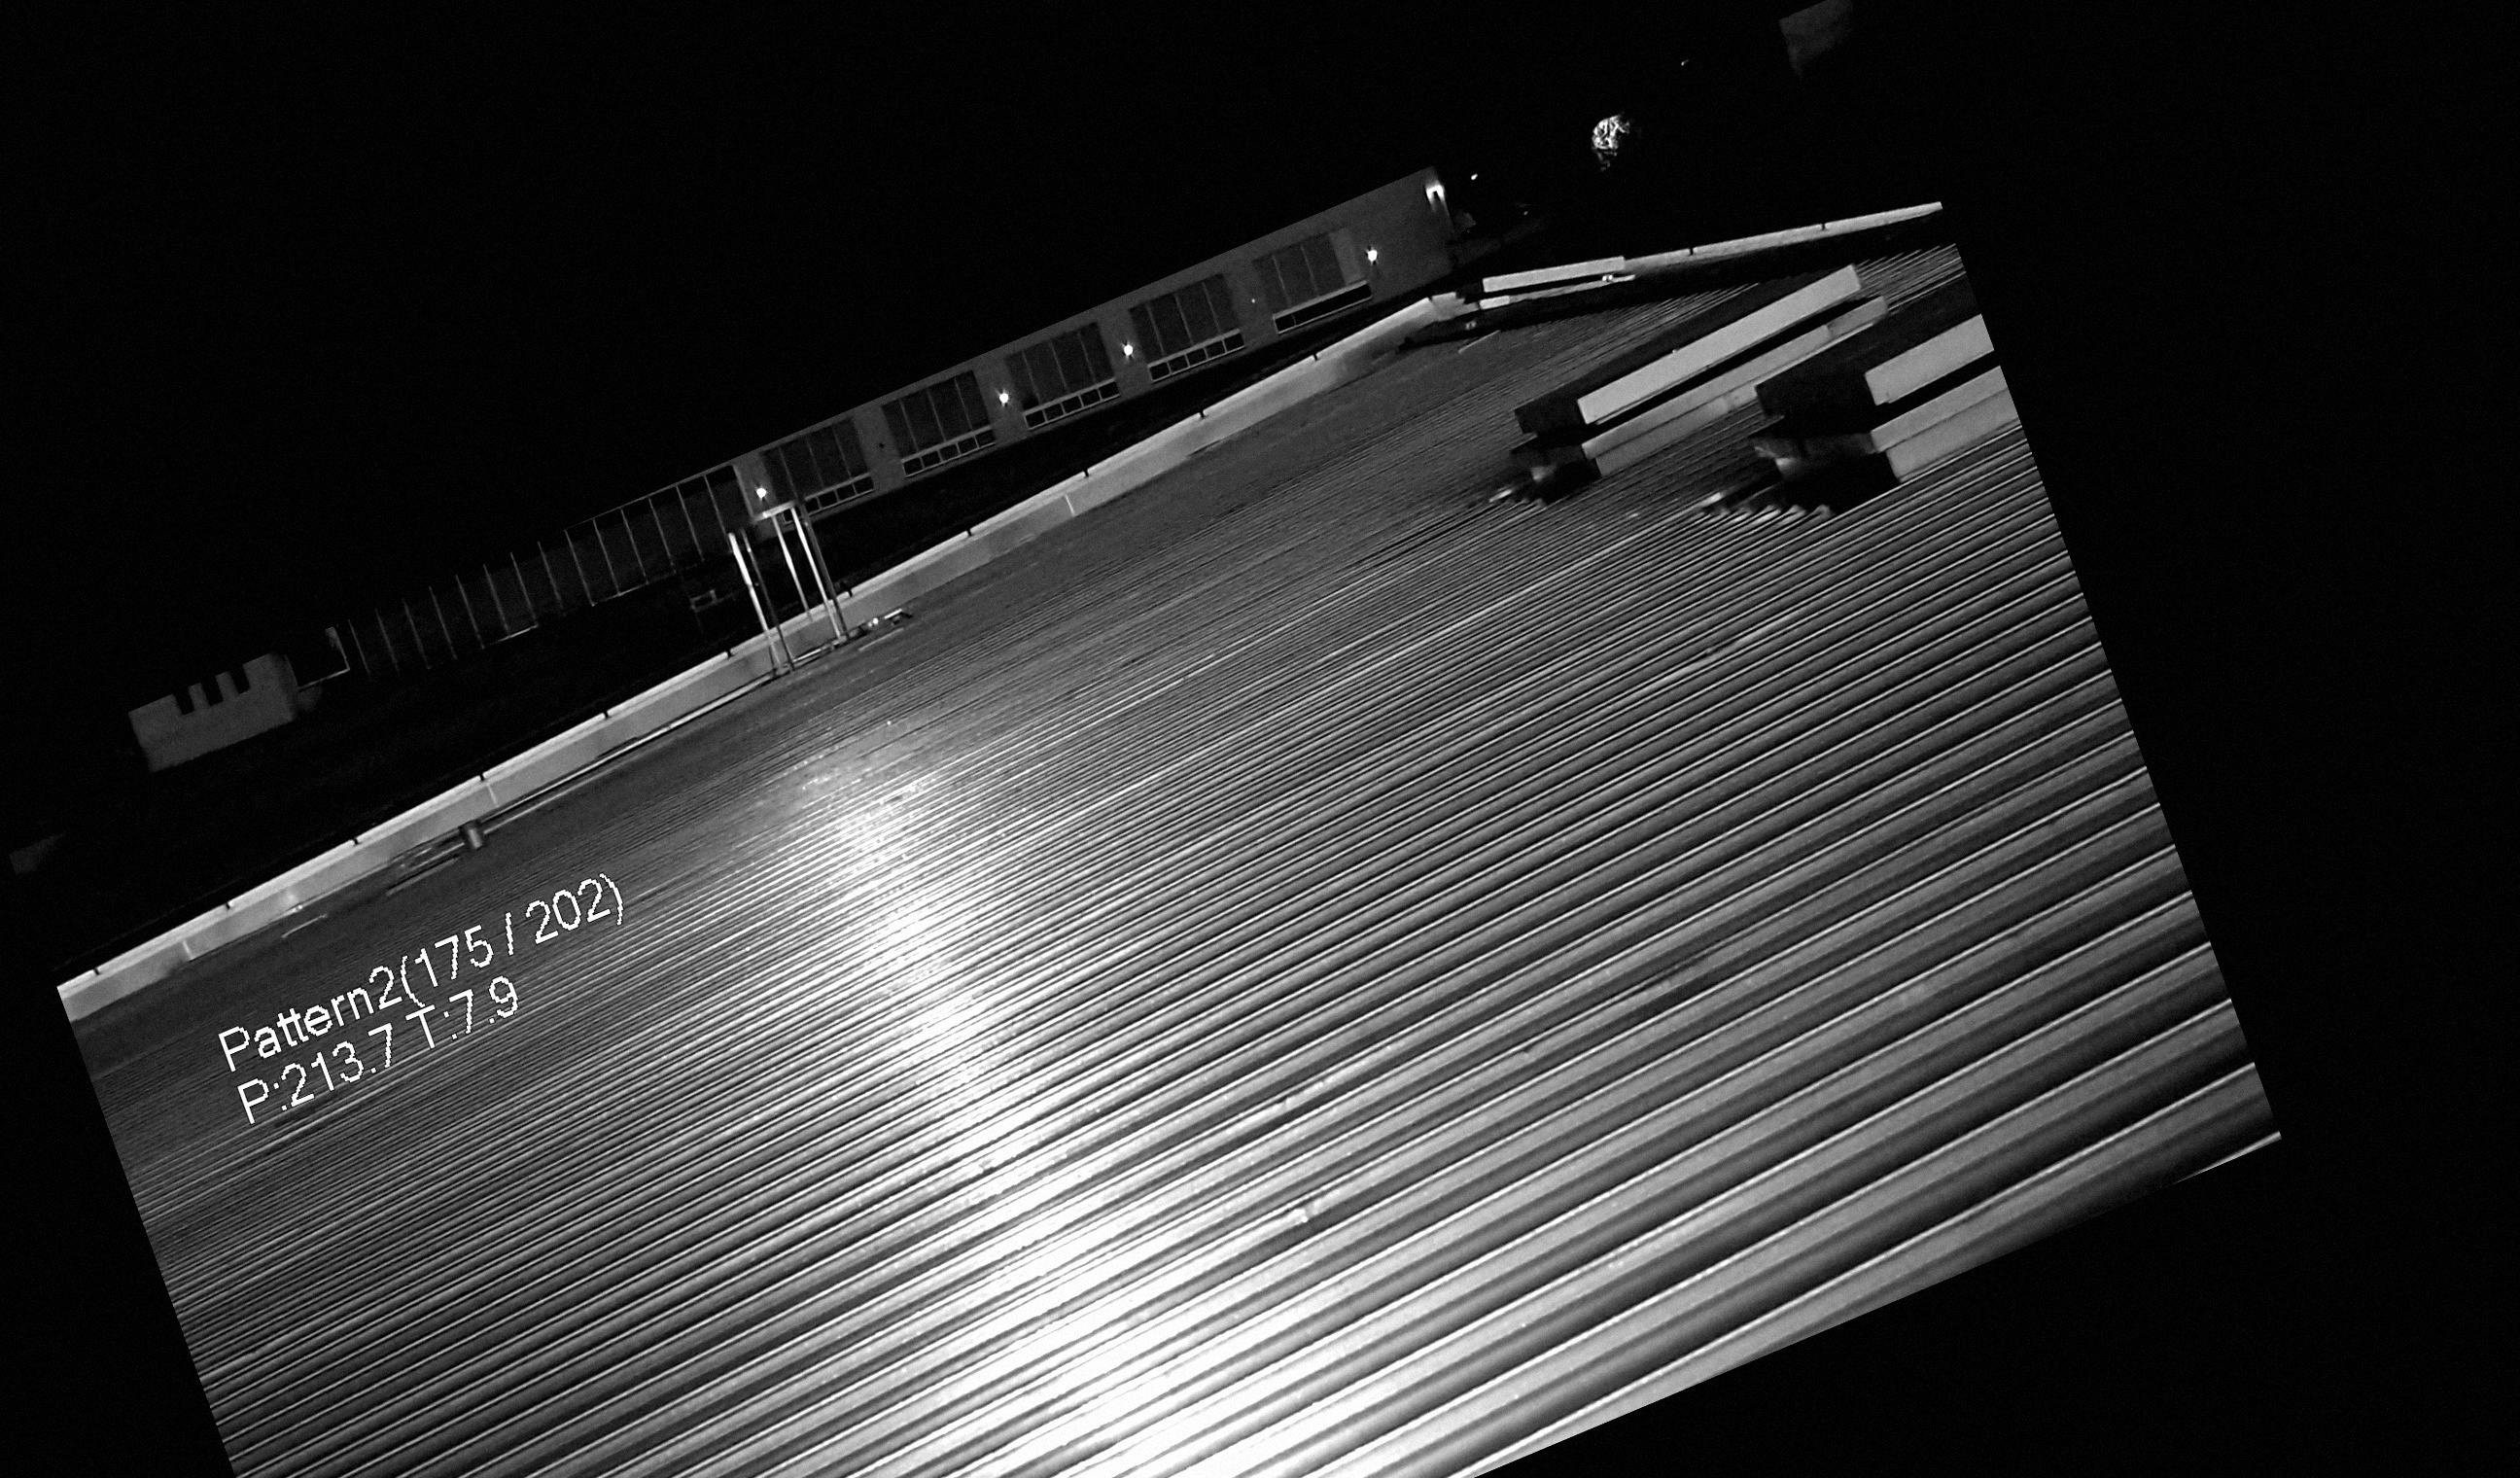Other: (1727, 355, 1926, 538)
